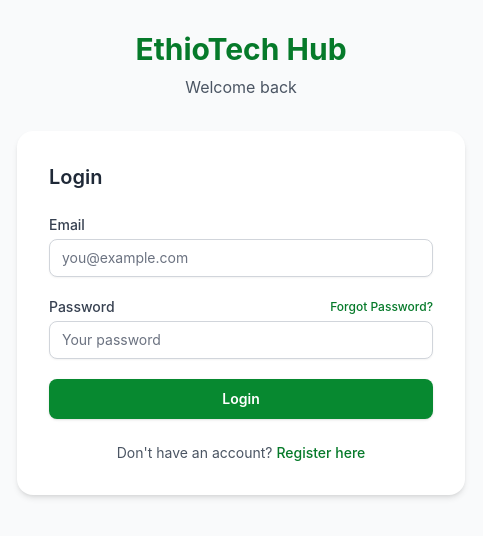
LoginPage › shows invalid email error
Type "not-an-email" into the field labelled "Email" at (241, 258), box [49,239,433,277]
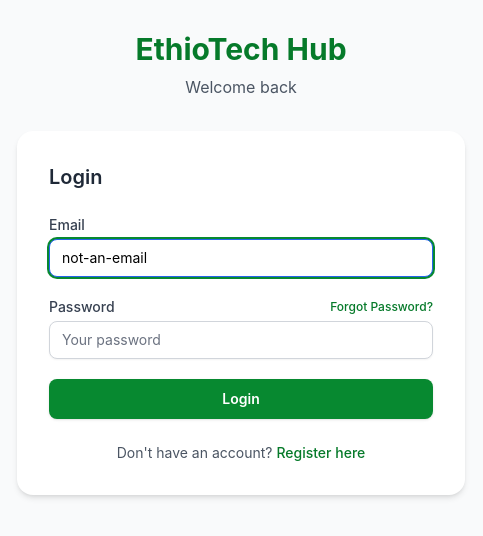
Click the button "Login" at (241, 399), box [49,379,433,419]
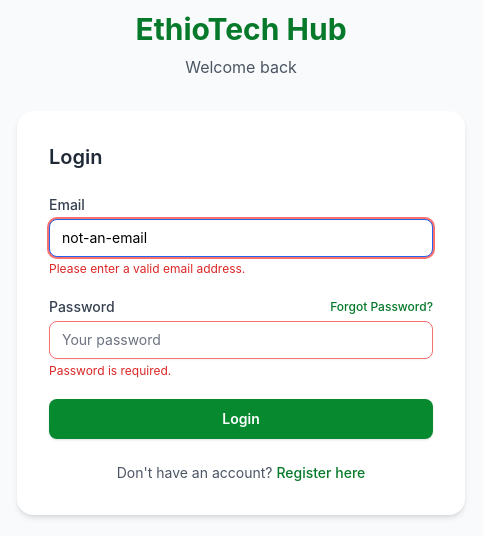
Now the text "Please enter a valid email address." is shown, box [49,261,245,276]
